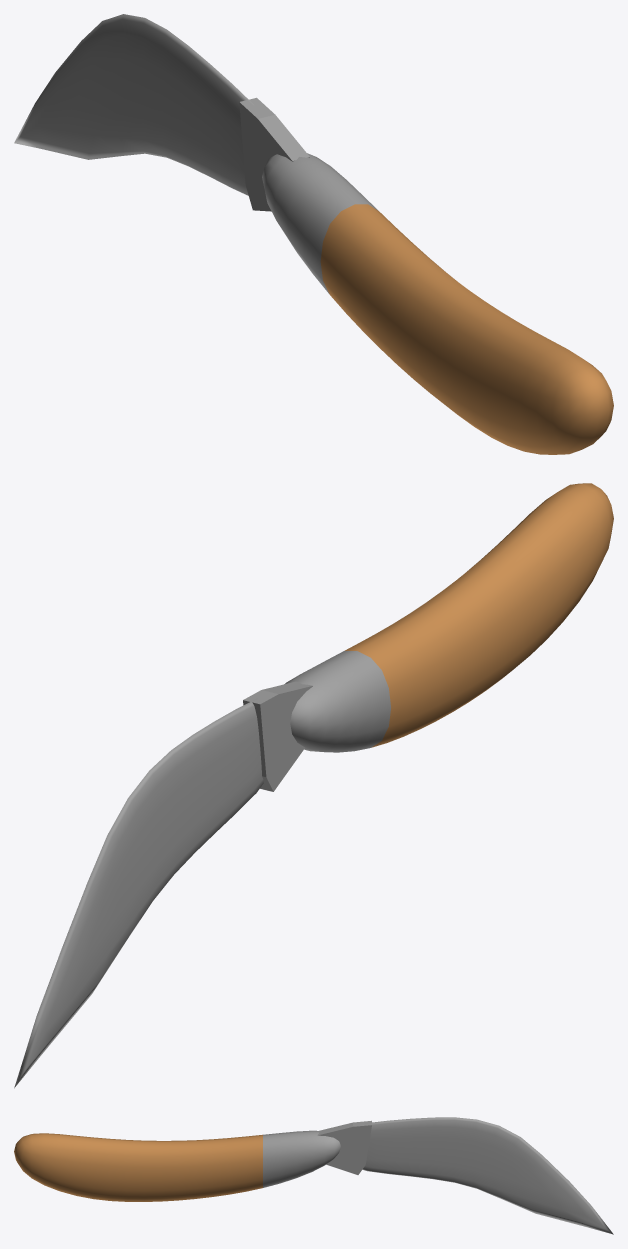
The model's file is pisau_pruning.glb.
3 renders of one model, top to bottom at view 1: azimuth 30°, elevation 25°; view 2: azimuth 150°, elevation 25°; view 3: azimuth 270°, elevation 25°, orthographic. The views are drawn at different scales.
Parts seen in each view (by area): view 1: Plane, Plane.001, Plane.002; view 2: Plane, Plane.001, Plane.002; view 3: Plane, Plane.001, Plane.002.
Boxes of the visible parts, x1,y1,x2,y2 form: Plane: [262, 153, 613, 454]; Plane.001: [14, 14, 253, 195]; Plane.002: [239, 97, 309, 211]; Plane: [284, 483, 613, 752]; Plane.001: [14, 698, 263, 1088]; Plane.002: [243, 681, 312, 791]; Plane: [14, 1130, 340, 1201]; Plane.001: [362, 1117, 613, 1234]; Plane.002: [317, 1120, 371, 1174].
Bounding box in the file's own units: 0.0736 × 0.2349 × 1.1.
